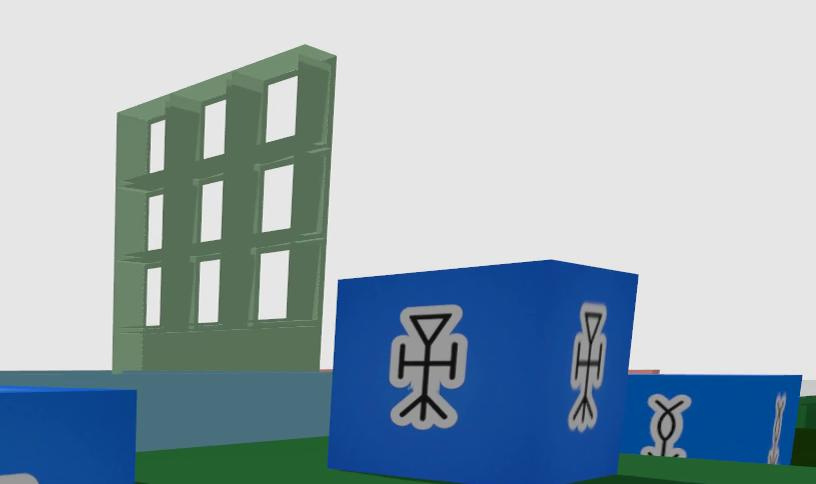KFS_REAL: (329, 260, 637, 484), (622, 372, 800, 464), (0, 386, 135, 484), (390, 305, 468, 429), (568, 302, 606, 431), (639, 394, 690, 456), (0, 474, 38, 484)
